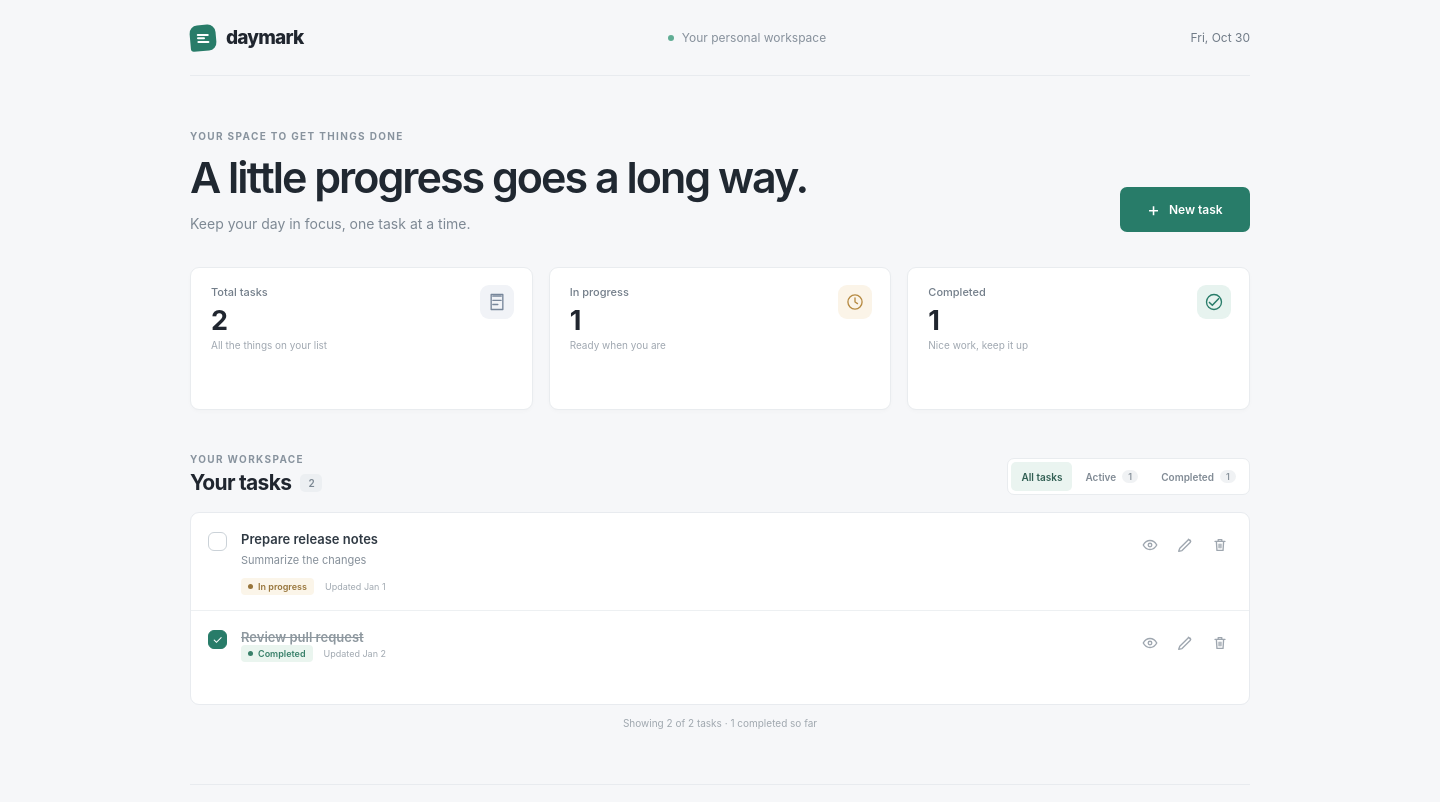
Tasks dashboard › updates completion status and respects filtered empty states
Click the button named "Mark Prepare release notes complete" at x=218, y=542, box [208, 532, 227, 551]
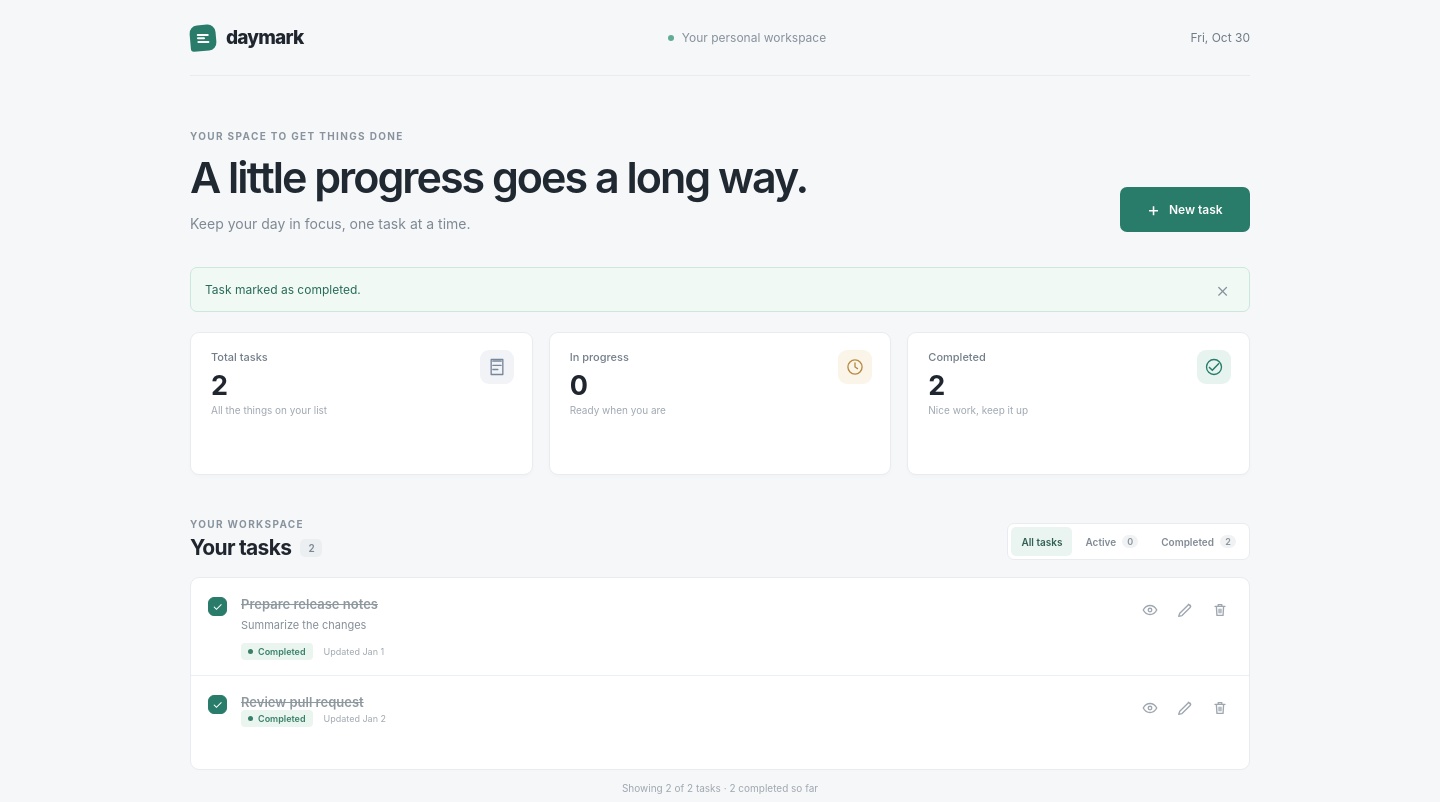
Check: the text "Task marked as completed." is shown, box [205, 282, 361, 297]
Click the button "Active 0" at x=1112, y=542, box [1076, 527, 1148, 556]
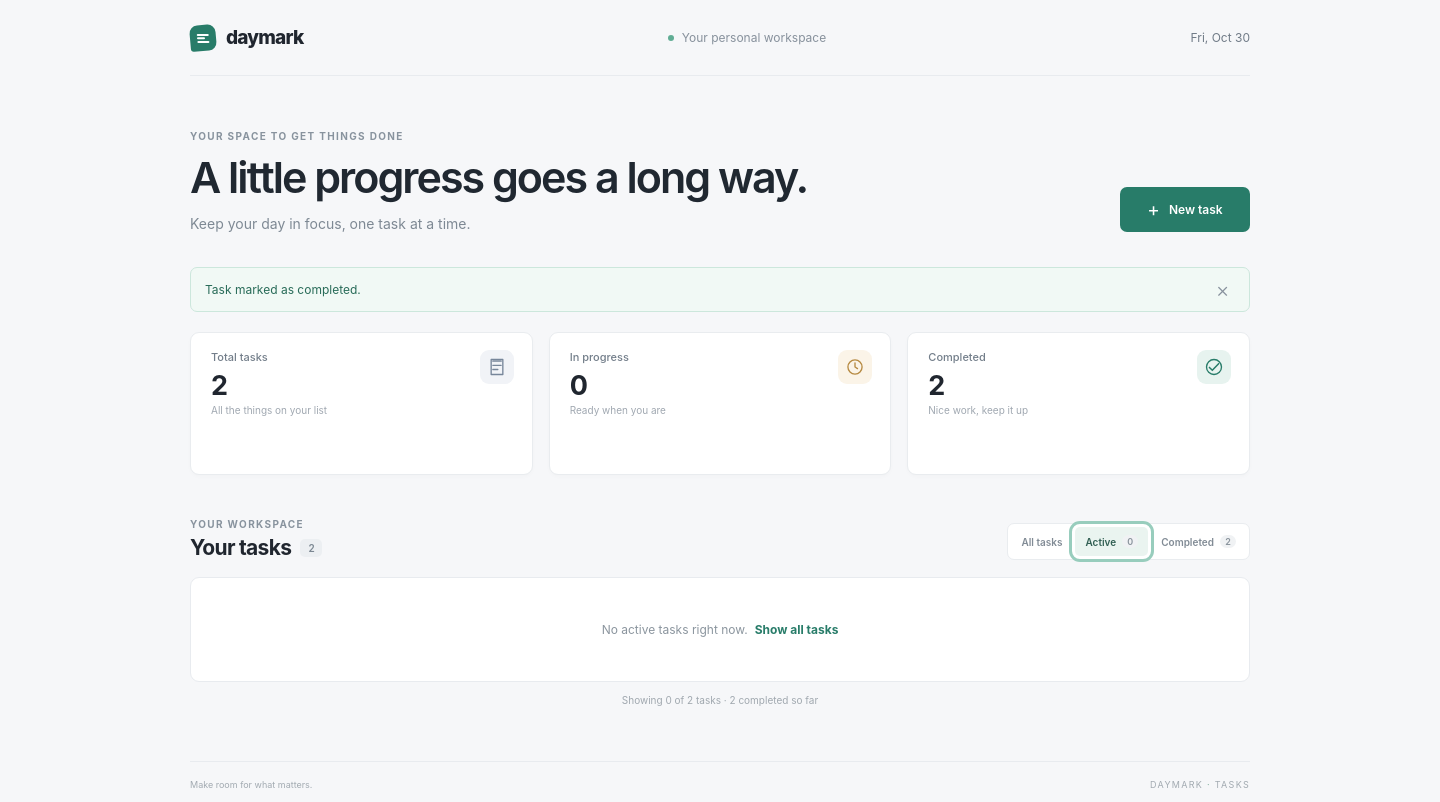
Check: the text "No active tasks right now." is shown, box [602, 622, 748, 637]
